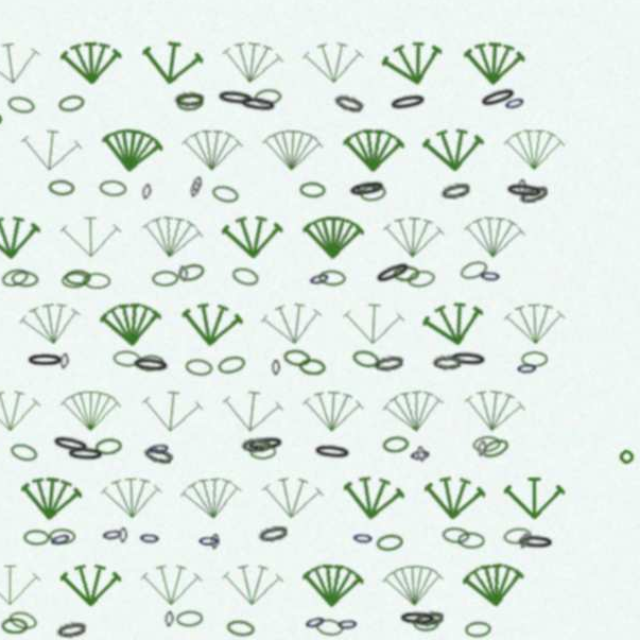chain: (380, 248, 419, 276), (479, 84, 518, 110), (76, 413, 115, 435), (394, 91, 433, 112), (356, 173, 394, 193), (516, 176, 547, 200), (232, 88, 270, 107), (253, 94, 291, 113), (260, 414, 298, 433), (504, 176, 542, 194), (152, 340, 190, 358), (323, 422, 361, 440), (342, 91, 373, 113), (461, 248, 490, 271), (481, 416, 510, 439), (451, 335, 489, 352), (443, 174, 473, 195), (163, 423, 193, 444), (271, 497, 301, 518), (37, 421, 66, 442), (36, 579, 65, 600), (380, 337, 410, 357), (81, 588, 111, 608), (91, 425, 128, 441), (515, 508, 552, 524), (404, 580, 441, 596), (29, 256, 57, 277), (195, 251, 223, 272), (246, 255, 274, 276), (233, 338, 261, 359), (418, 578, 448, 597), (35, 94, 63, 114), (227, 178, 255, 198), (53, 337, 90, 352), (360, 333, 387, 353), (412, 258, 440, 277), (83, 93, 110, 112), (203, 342, 230, 360), (295, 333, 322, 351), (503, 501, 530, 519), (242, 588, 269, 606), (326, 587, 353, 605), (502, 92, 526, 112), (74, 503, 98, 523), (314, 581, 338, 601), (383, 507, 409, 525), (268, 88, 295, 105), (122, 174, 149, 191), (474, 415, 501, 432), (445, 501, 472, 518), (318, 258, 342, 277), (193, 90, 221, 106), (436, 338, 464, 354), (256, 416, 284, 432), (195, 93, 221, 110), (367, 178, 393, 195), (310, 342, 336, 359), (118, 417, 144, 434), (389, 415, 415, 432), (39, 260, 66, 276), (135, 335, 162, 351), (74, 174, 100, 190), (329, 259, 355, 275), (158, 339, 184, 355), (460, 506, 486, 522), (311, 176, 336, 192), (87, 261, 112, 277), (399, 255, 424, 271), (195, 580, 220, 596), (467, 590, 492, 606), (107, 262, 133, 277), (90, 259, 115, 274), (172, 260, 197, 275), (520, 336, 545, 351), (264, 423, 289, 438), (51, 504, 76, 519), (75, 503, 100, 518), (30, 587, 55, 602), (418, 585, 443, 600), (168, 419, 190, 436), (414, 425, 436, 442), (124, 500, 146, 517), (480, 257, 502, 273), (159, 504, 181, 520), (360, 504, 382, 520), (515, 344, 536, 360), (346, 585, 367, 601), (364, 175, 385, 190), (215, 507, 236, 522), (517, 507, 529, 523), (207, 176, 218, 192), (209, 171, 220, 187), (162, 178, 172, 194), (197, 255, 207, 271), (421, 425, 431, 441), (478, 420, 488, 436), (85, 338, 94, 353), (227, 508, 236, 523), (184, 581, 193, 596), (517, 174, 525, 189), (16, 261, 24, 276), (285, 344, 293, 359), (141, 502, 149, 517)
fan: (386, 38, 451, 92), (425, 284, 489, 337), (46, 285, 108, 336), (8, 40, 70, 90), (122, 122, 184, 172), (160, 204, 222, 254), (388, 368, 450, 418), (160, 40, 222, 89), (236, 40, 297, 89), (274, 286, 335, 335), (464, 368, 525, 417), (350, 450, 411, 499), (464, 532, 525, 581), (198, 287, 259, 335), (236, 369, 297, 417), (198, 451, 259, 499), (47, 123, 107, 171), (161, 369, 221, 417), (47, 451, 107, 499), (427, 451, 487, 498), (427, 123, 486, 170), (275, 451, 334, 498), (465, 42, 524, 88), (275, 124, 334, 170), (9, 206, 68, 252), (389, 206, 448, 252), (465, 206, 524, 252), (123, 288, 182, 334), (313, 370, 372, 416), (313, 534, 372, 580), (389, 534, 448, 580), (86, 42, 144, 87), (314, 42, 372, 87), (238, 206, 296, 251), (352, 288, 410, 333), (504, 288, 562, 333), (124, 452, 182, 497), (238, 534, 296, 579), (200, 125, 258, 169), (352, 125, 410, 169), (314, 207, 372, 251), (504, 125, 561, 168), (86, 207, 143, 250), (10, 371, 67, 414), (86, 371, 143, 414), (504, 453, 561, 496), (10, 535, 67, 578), (86, 535, 143, 578), (162, 535, 219, 578)
noise: (612, 428, 627, 443), (8, 407, 23, 422), (19, 111, 31, 123)
